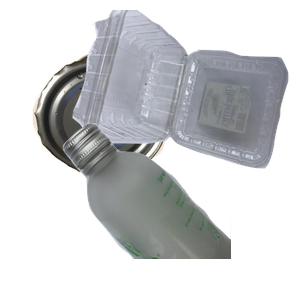glass: (60, 120, 300, 300)
metal: (30, 46, 205, 215)
plastic: (70, 10, 300, 171)
trash: (88, 177, 251, 300)
